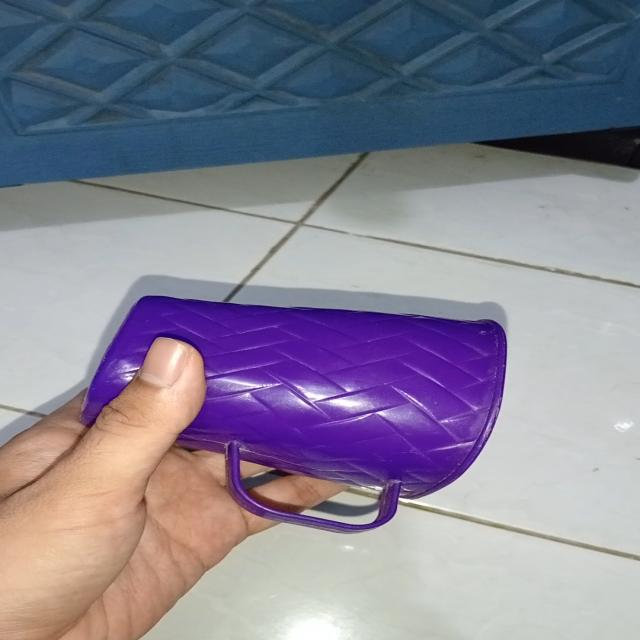gelas bekas: (71, 295, 504, 536)
